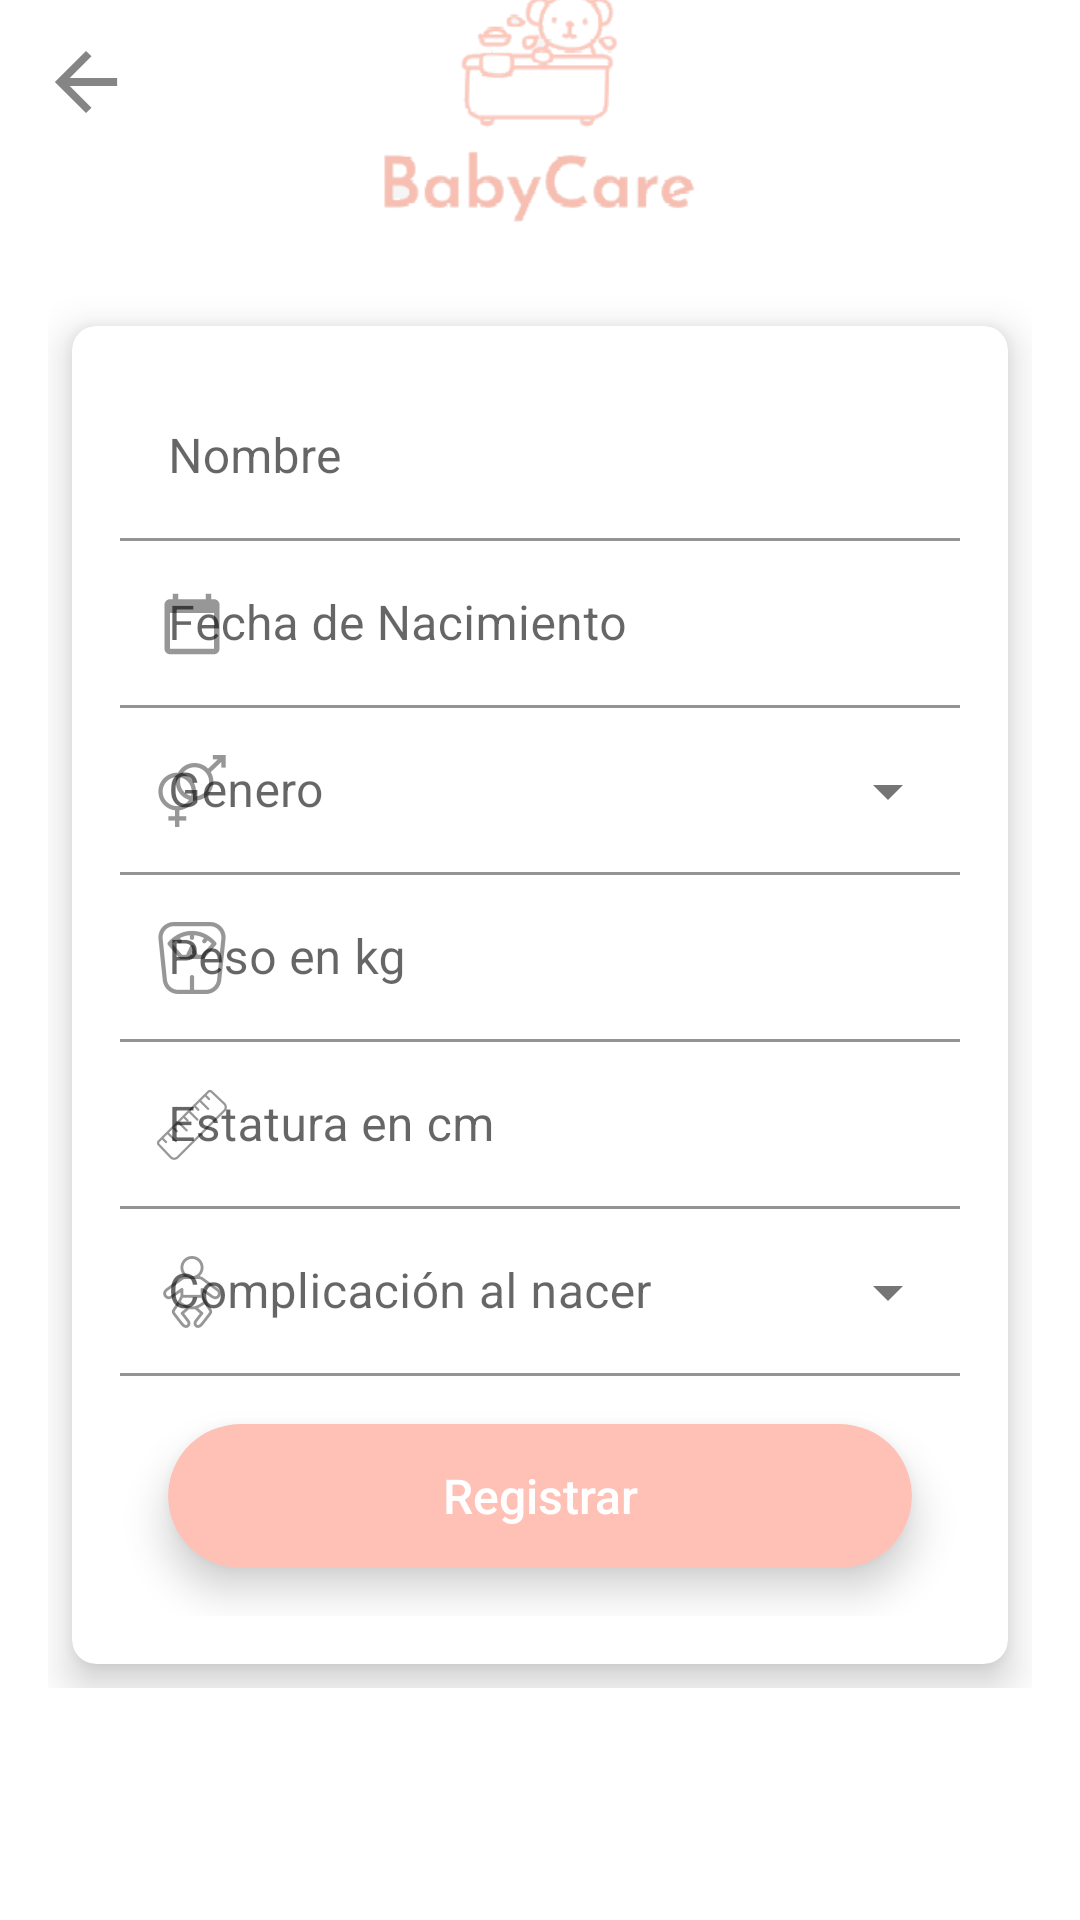

Locate icon controls on the screen. Image size 1080px x 1920px, boxes as (x1, y1, x2, y2).
back: (55, 51, 117, 113)
